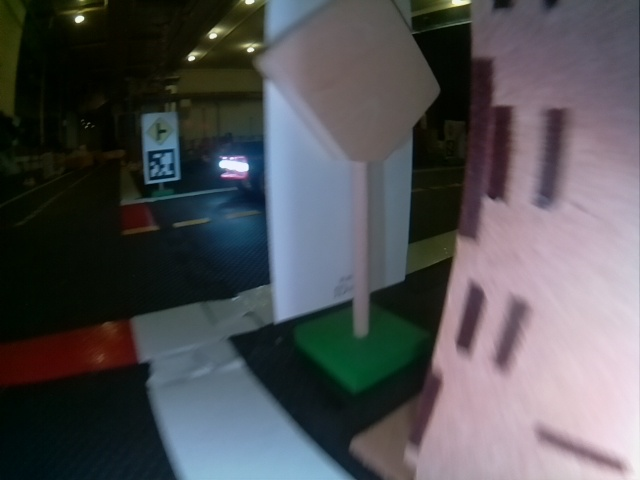Intersection sign: (146, 117, 174, 145)
QR code: (146, 151, 178, 179)
